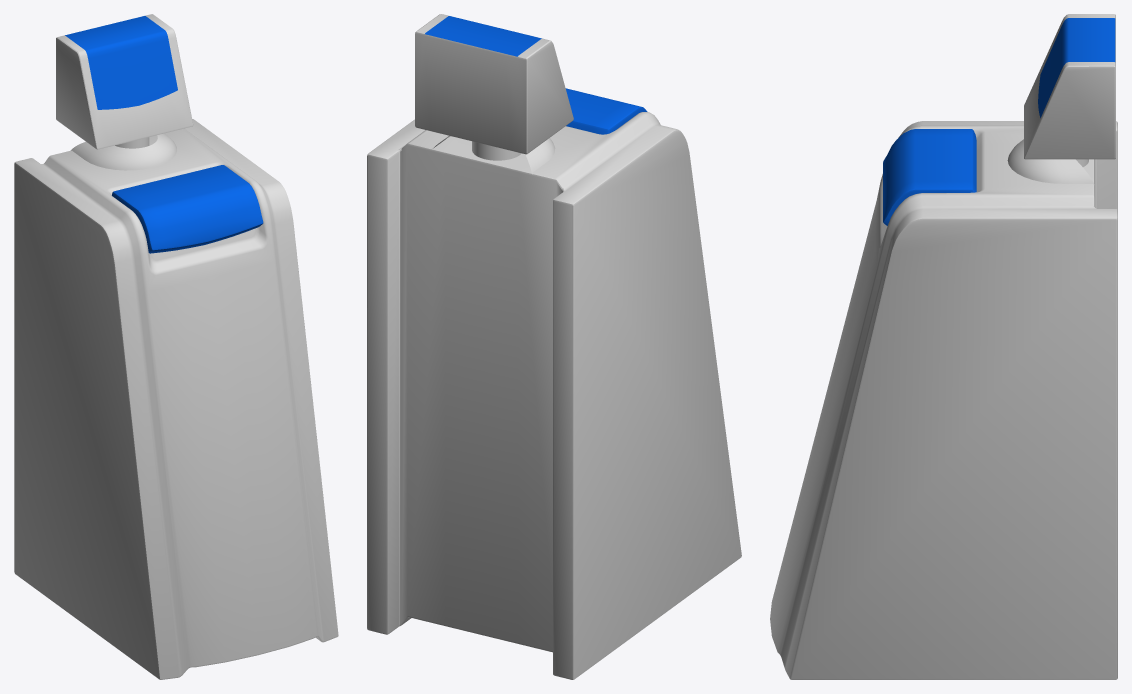
The model's file is S_Adoucisseur.fbx.
3 views of the same model, side by side, from view 1: azimuth 30°, elevation 25°; view 2: azimuth 150°, elevation 25°; view 3: azimuth 270°, elevation 25° (orthographic). The views are drawn at different scales.
Visible parts, largest first — view 1: PH_ADOCISSEUR_0519x071x145.008, PH_ADOCISSEUR_0519x071x145.011, PH_ADOCISSEUR_0519x071x145.009, PH_ADOCISSEUR_0519x071x145.010; view 2: PH_ADOCISSEUR_0519x071x145.008, PH_ADOCISSEUR_0519x071x145.011, PH_ADOCISSEUR_0519x071x145.009, PH_ADOCISSEUR_0519x071x145.010, Cylinder.023; view 3: PH_ADOCISSEUR_0519x071x145.008, PH_ADOCISSEUR_0519x071x145.011, PH_ADOCISSEUR_0519x071x145.009, PH_ADOCISSEUR_0519x071x145.010.
Part boxes in pixels (x1,y1,x2,y2): PH_ADOCISSEUR_0519x071x145.008: (14, 119, 338, 679); PH_ADOCISSEUR_0519x071x145.011: (56, 14, 193, 149); PH_ADOCISSEUR_0519x071x145.009: (112, 165, 263, 253); PH_ADOCISSEUR_0519x071x145.010: (71, 133, 176, 170); PH_ADOCISSEUR_0519x071x145.008: (367, 112, 741, 679); PH_ADOCISSEUR_0519x071x145.011: (415, 14, 573, 154); PH_ADOCISSEUR_0519x071x145.009: (565, 88, 647, 134); PH_ADOCISSEUR_0519x071x145.010: (433, 135, 555, 174); Cylinder.023: (472, 141, 521, 160); PH_ADOCISSEUR_0519x071x145.008: (770, 121, 1117, 679); PH_ADOCISSEUR_0519x071x145.011: (1024, 14, 1115, 159); PH_ADOCISSEUR_0519x071x145.009: (883, 129, 976, 225); PH_ADOCISSEUR_0519x071x145.010: (1007, 139, 1094, 184).
Size of the model in its own units: 51.9 by 146 by 77.71.
